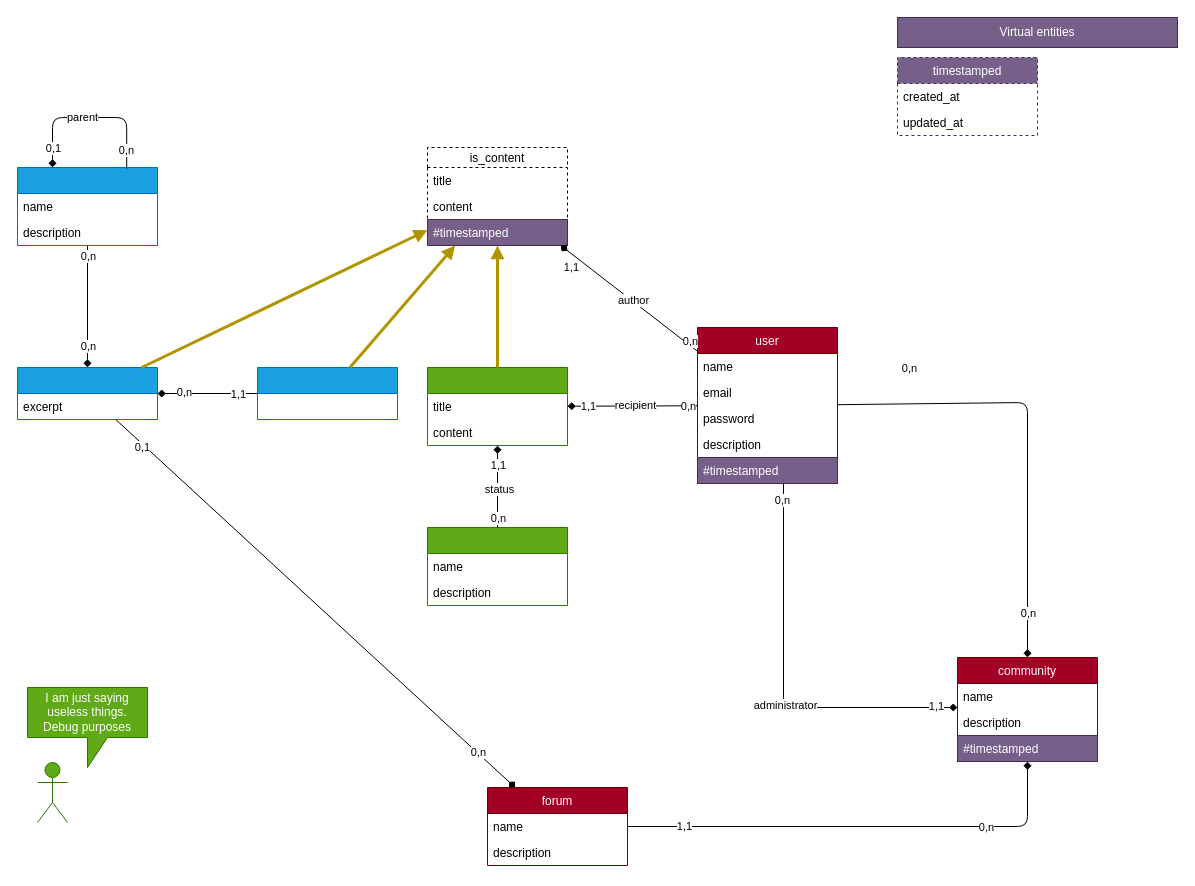
This 1195x886 diagram has some shape labels left out. Each missing label, with the box of its shape:
article: (16, 366, 158, 420)
category: (16, 166, 158, 246)
comment: (256, 366, 398, 420)
message: (426, 366, 568, 446)
message_status: (426, 526, 568, 606)
